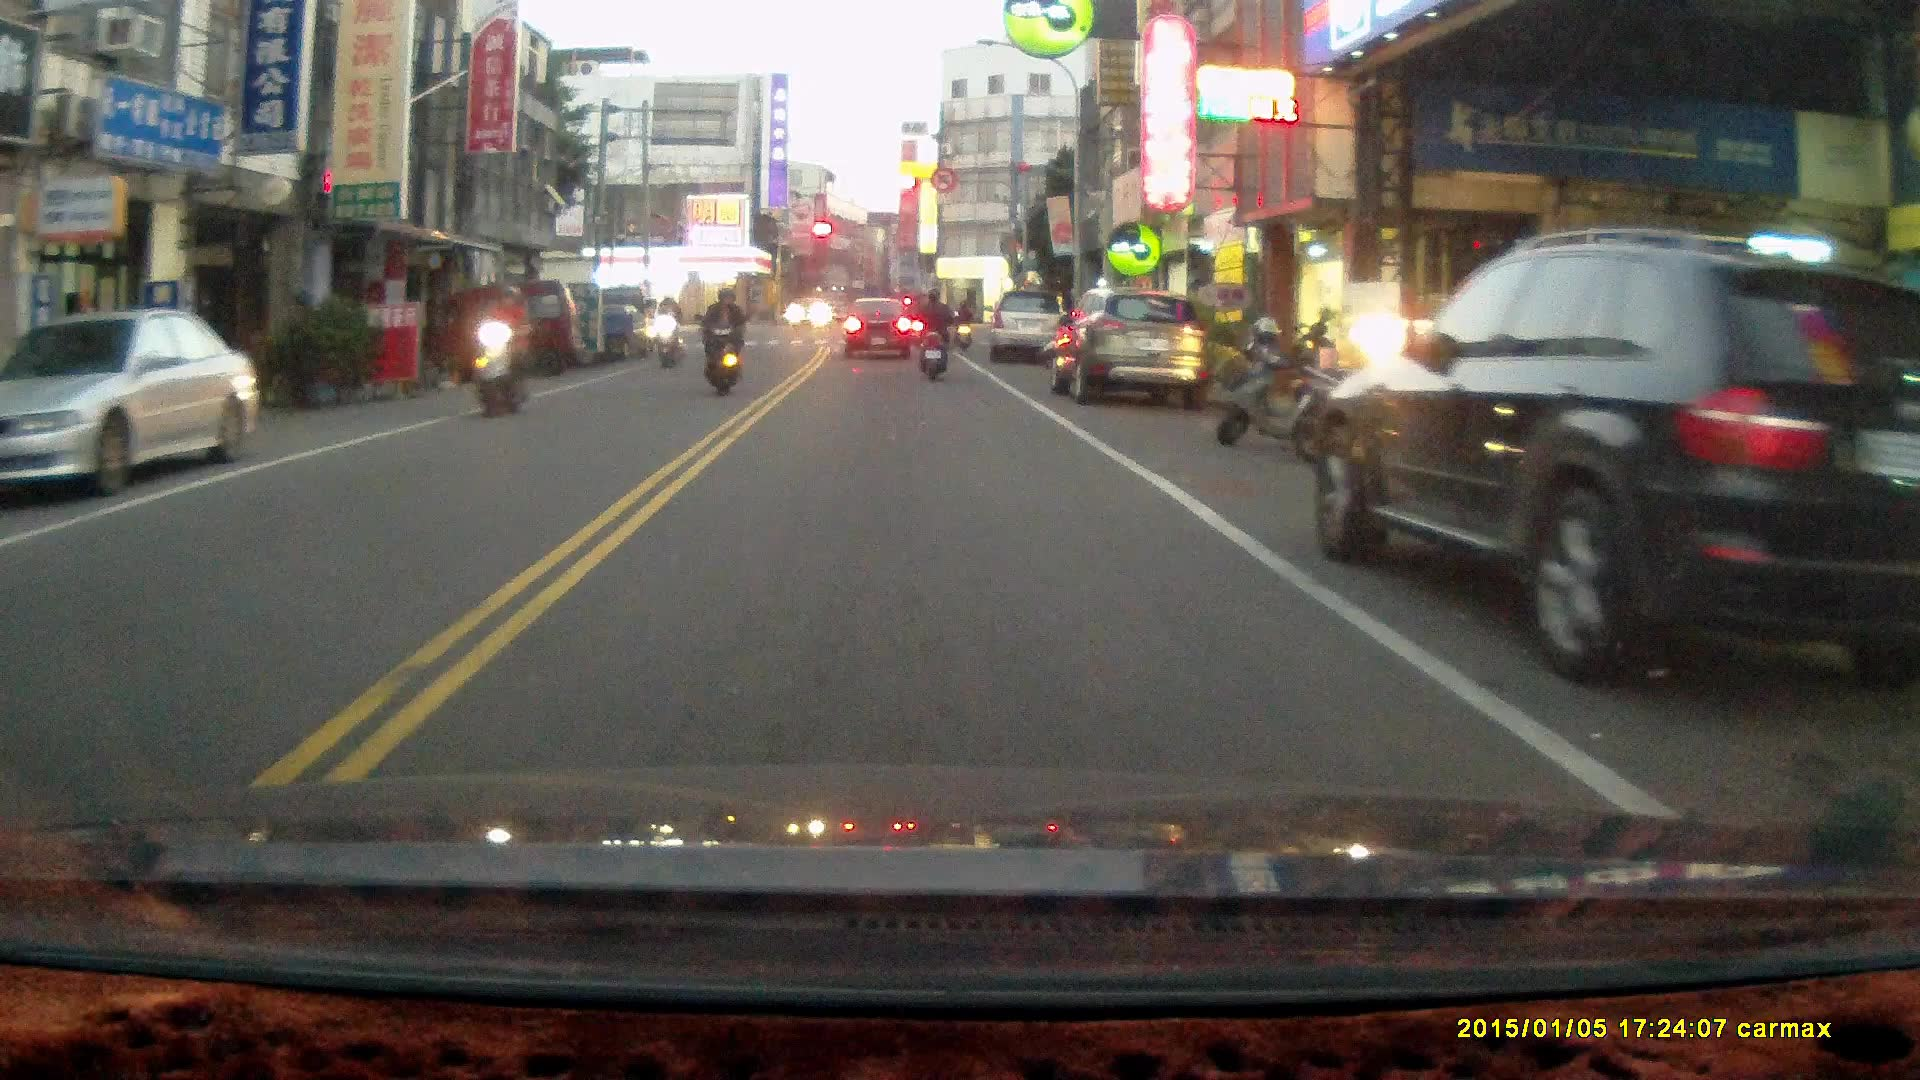rider: (474, 282, 533, 416), (699, 282, 742, 397), (912, 284, 953, 384), (651, 291, 684, 370), (953, 296, 975, 351)
vehicle: (1309, 231, 1920, 719), (1, 308, 273, 499), (1050, 286, 1206, 404), (423, 280, 588, 383), (994, 286, 1072, 363)
